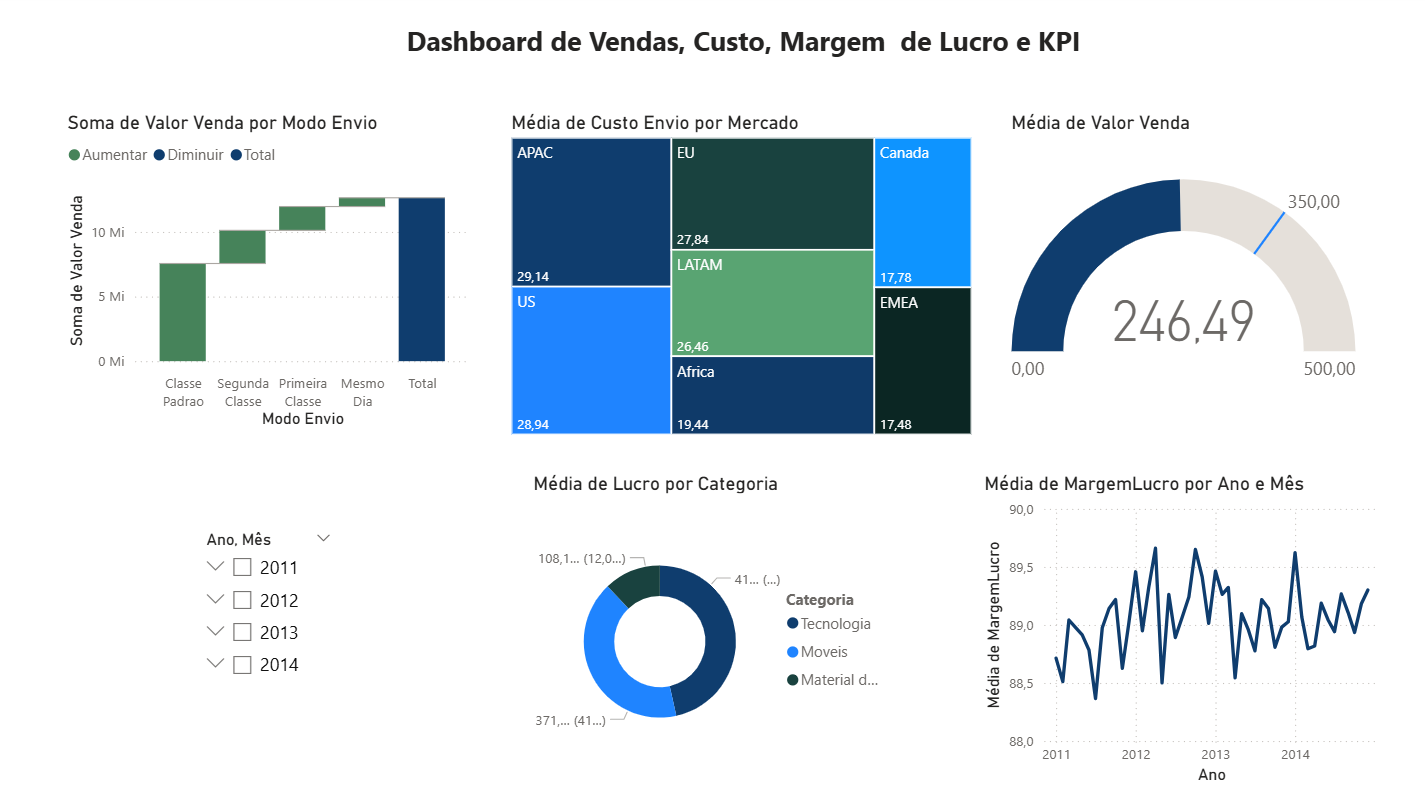

What the dashboard file says about the page in this screenshot:
{"tool":"powerbi","page":{"name":"Página 1","canvas":[1280,720],"ordinal":0},"visuals":[{"type":"waterfallChart","fields":{"Y":["Sum(Vendas.Valor Venda)"],"Category":["Pedidos.Modo Envio"]},"box":[56.4,103.9,370.7,288.4],"z":0},{"type":"treemap","fields":{"Group":["Clientes.Mercado"],"Values":["Avg(Vendas.Custo Envio)"]},"box":[454,103.9,421.8,294.6],"z":1000},{"type":"gauge","fields":{"Y":["Avg(Vendas.Valor Venda)"]},"box":[901.8,103.9,317.9,288.4],"z":2000},{"type":"slicer","fields":{"Values":["Pedidos.Data Pedido.Variation.Hierarquia de datas.Ano","Pedidos.Data Pedido.Variation.Hierarquia de datas.Mês"]},"box":[172.8,474.6,137,172.8],"z":3000},{"type":"donutChart","fields":{"Category":["Produtos.Categoria"],"Y":["Avg(Vendas.Lucro)"]},"box":[473.7,427.2,333.1,284.8],"z":4000},{"type":"lineChart","fields":{"Y":["Avg(Vendas.MargemLucro)"],"Category":["Pedidos.Data Pedido.Variation.Hierarquia de datas.Ano","Pedidos.Data Pedido.Variation.Hierarquia de datas.Mês"]},"box":[877.6,427.2,366.3,283.9],"z":5000},{"type":"textbox","box":[23,475,150,173],"z":6000},{"type":"textbox","box":[360,18.8,651.9,53.7],"z":7000}]}

Visuals, with their boxes in screenshot pixels (x1, y1, x2, y2), scaled from the page's 1280x720 canvas onto the 1425x794 screenshot:
waterfallChart - Sum(Vendas.Valor Venda) x Pedidos.Modo Envio: (63, 115, 475, 433)
treemap - Clientes.Mercado x Avg(Vendas.Custo Envio): (505, 115, 975, 439)
gauge - Avg(Vendas.Valor Venda): (1004, 115, 1358, 433)
slicer - Pedidos.Data Pedido.Variation.Hierarquia de datas.Ano x Pedidos.Data Pedido.Variation.Hierarquia de datas.Mês: (192, 523, 345, 714)
donutChart - Produtos.Categoria x Avg(Vendas.Lucro): (527, 471, 898, 785)
lineChart - Avg(Vendas.MargemLucro) x Pedidos.Data Pedido.Variation.Hierarquia de datas.Ano: (977, 471, 1385, 784)
textbox: (26, 524, 193, 715)
textbox: (401, 21, 1127, 80)
